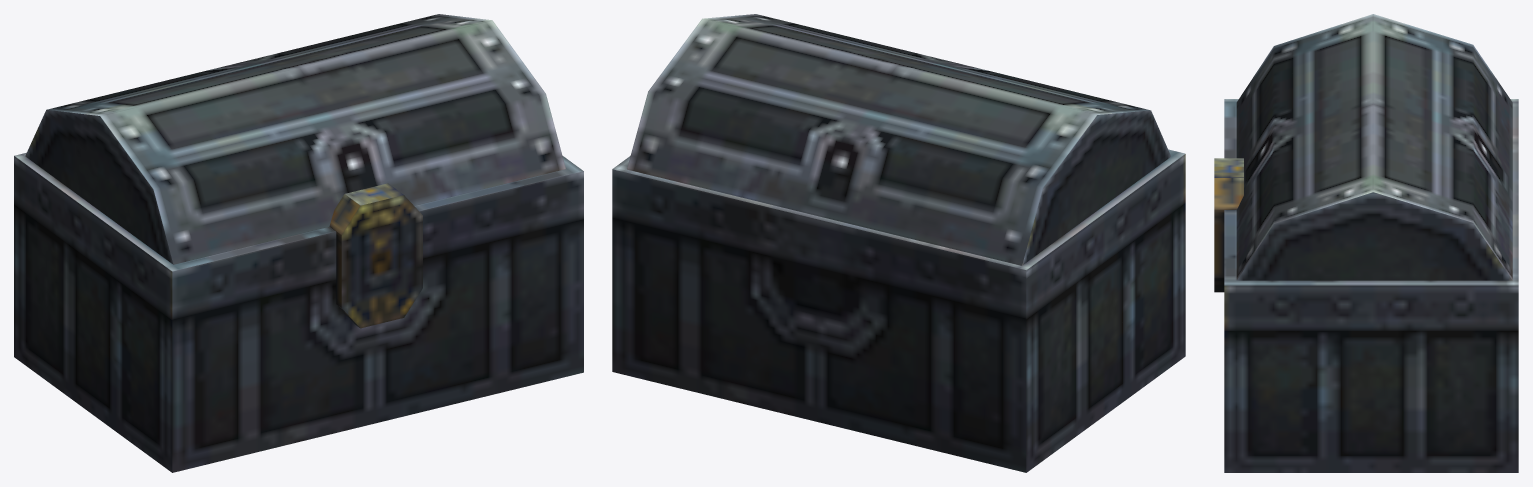
File: glod_box005.FBX
3 views of the same model, side by side, from view 1: azimuth 30°, elevation 25°; view 2: azimuth 150°, elevation 25°; view 3: azimuth 270°, elevation 25° (orthographic). The views are drawn at different scales.
Parts seen in each view (by area): view 1: glod_box005; view 2: glod_box005; view 3: glod_box005.
Boxes of the visible parts, x1=… form: glod_box005: x1=14, y1=14, x2=583, y2=472; glod_box005: x1=612, y1=14, x2=1185, y2=472; glod_box005: x1=1214, y1=14, x2=1518, y2=472.
Bounding box in the file's own units: 0.6313 × 0.4345 × 0.435.
1 material, 1 textured.
